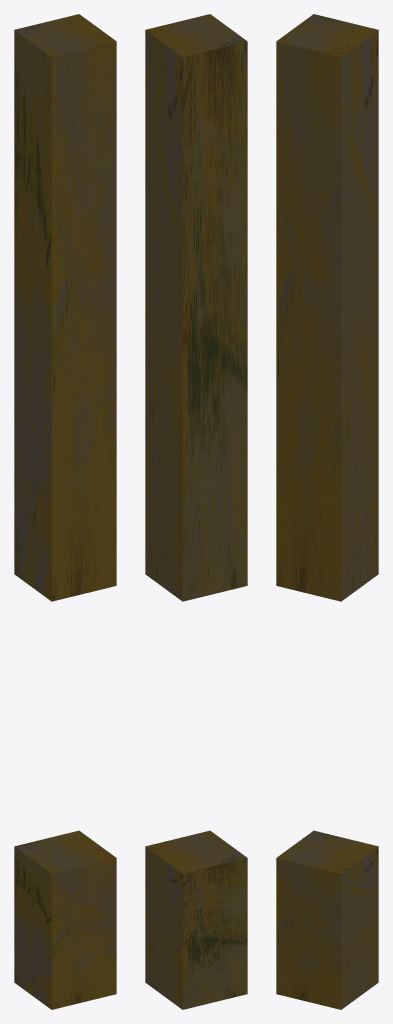
File: obs9.glb
The picture shows the model from 3 angles, left to right: view 1: azimuth 30°, elevation 25°; view 2: azimuth 210°, elevation 25°; view 3: azimuth 330°, elevation 25°; orthographic projection.
Visible parts, largest first — view 1: obs91; view 2: obs91; view 3: obs91.
Part boxes in pixels (bbox=[...]): obs91: bbox=[14, 14, 116, 1009]; obs91: bbox=[145, 14, 247, 1009]; obs91: bbox=[276, 14, 378, 1009].
Size of the model in its own units: 1 by 14 by 1.
Materials: 1 (1 with a texture image).
